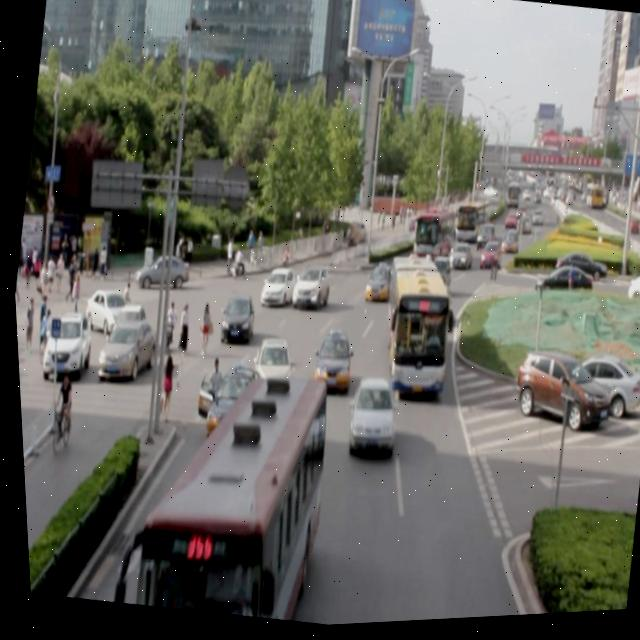car: (198, 364, 264, 456), (339, 380, 398, 463), (246, 340, 296, 402), (307, 335, 352, 400), (284, 266, 329, 319), (214, 297, 255, 350), (254, 269, 293, 314), (359, 264, 393, 312), (419, 283, 452, 326), (421, 261, 450, 299)
van: (124, 357, 334, 632), (370, 257, 459, 406)
